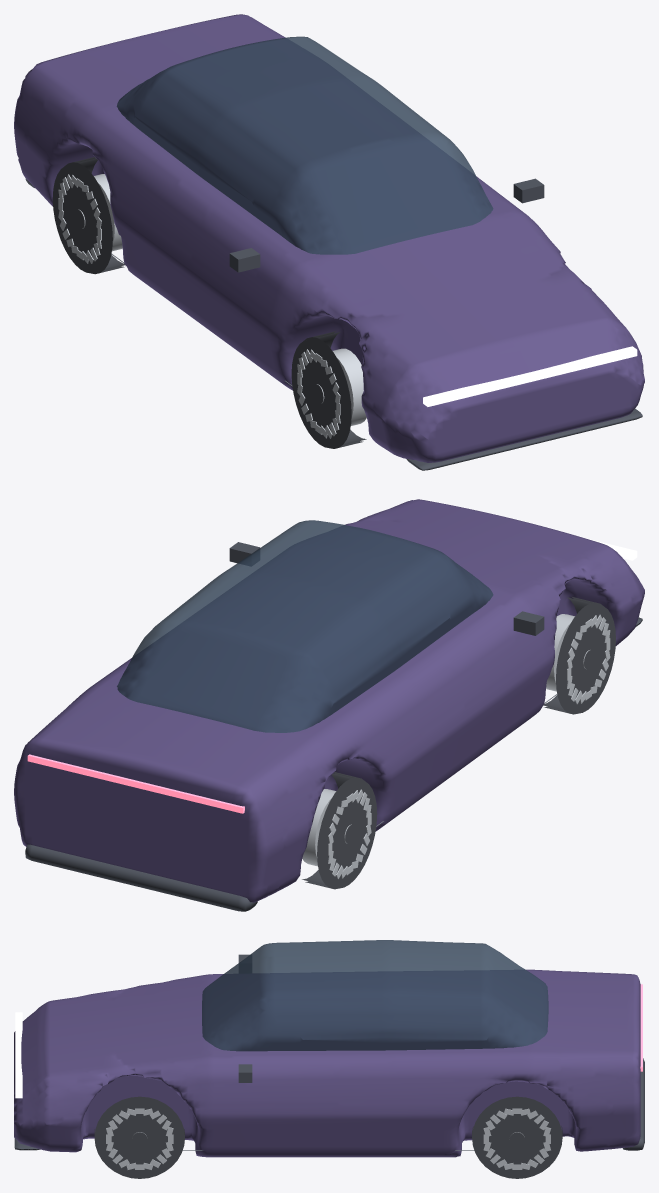
File: solstice.glb
The picture shows the model from 3 angles, top to bottom: view 1: azimuth 30°, elevation 25°; view 2: azimuth 150°, elevation 25°; view 3: azimuth 270°, elevation 25°; orthographic projection. The views are drawn at different scales.
Visible parts, largest first — view 1: Bodywork, CanopyGlass, TireRubber, ForgedRim, CarbonAero (×2), HeadlightLED; view 2: Bodywork, CanopyGlass, TireRubber, CarbonAero (×2), ForgedRim, TaillightLED; view 3: Bodywork, CanopyGlass, TireRubber, ForgedRim, CarbonAero (×2), HeadlightLED.
Boxes of the visible parts, box(x1,y1,x2,y2) form: Bodywork: box(14, 14, 644, 462); CanopyGlass: box(116, 36, 493, 254); TireRubber: box(52, 157, 366, 448); ForgedRim: box(58, 174, 366, 438); CarbonAero (×2): box(25, 178, 642, 470); HeadlightLED: box(423, 346, 637, 406); Bodywork: box(14, 499, 644, 902); CanopyGlass: box(117, 520, 493, 732); TireRubber: box(302, 596, 615, 889); CarbonAero (×2): box(25, 542, 642, 911); ForgedRim: box(302, 614, 610, 879); TaillightLED: box(27, 754, 244, 813); Bodywork: box(14, 969, 640, 1157); CanopyGlass: box(202, 940, 548, 1051); TireRubber: box(94, 1096, 562, 1178); ForgedRim: box(106, 1108, 550, 1169); CarbonAero (×2): box(14, 954, 644, 1150); HeadlightLED: box(15, 1012, 22, 1098).
Bounding box in the file's own units: 2.22 × 1.47 × 5.01.
